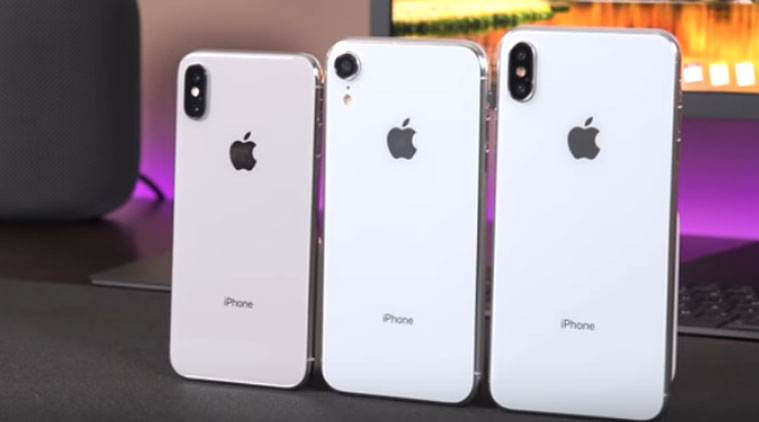apple: (554, 96, 627, 190), (216, 123, 287, 199), (371, 110, 431, 167)
